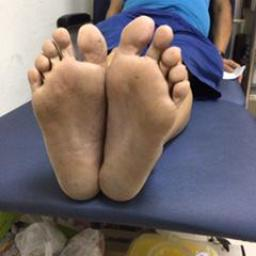Plantar View -Both Feet-: (24, 8, 195, 214)
